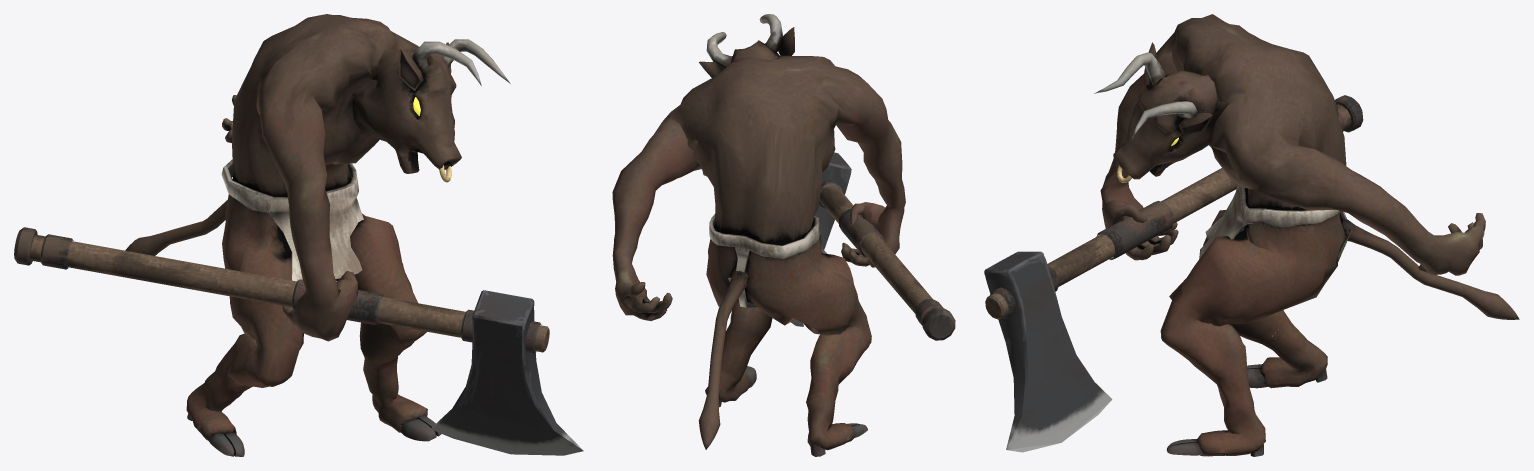
Rendered from minotauros_none_motion.glb.
3 renders of one model, left to right at view 1: azimuth 30°, elevation 25°; view 2: azimuth 150°, elevation 25°; view 3: azimuth 270°, elevation 25°, orthographic. The views are drawn at different scales.
Visible parts, largest first — view 1: minotauros, axe; view 2: minotauros, axe; view 3: minotauros, axe.
Part boxes in pixels (box(x1,y1,x2,y2)): minotauros: box(125, 14, 510, 456); axe: box(14, 227, 583, 455); minotauros: box(612, 14, 905, 456); axe: box(791, 152, 955, 340); minotauros: box(1094, 14, 1519, 456); axe: box(984, 95, 1363, 452).
Size of the model in its own units: 1.66 by 1.68 by 2.05.
Materials: 10 (10 with a texture image).
